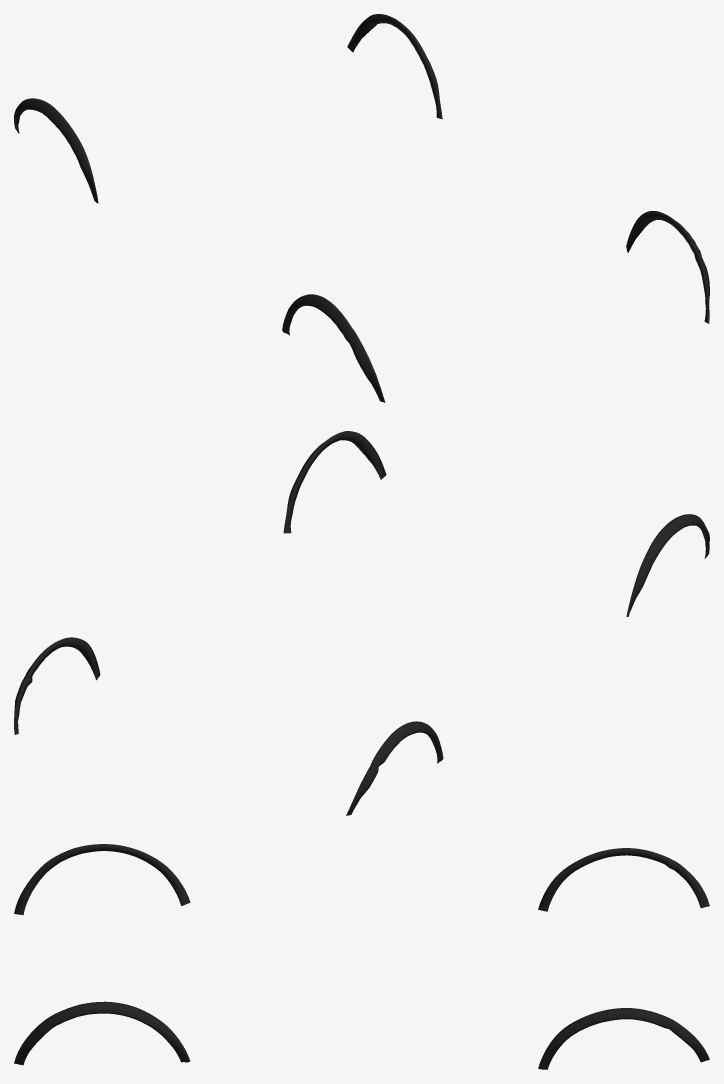
Rendered from DT61_fender_flares_carbon.glb.
3 views of the same model, one above another, from view 1: azimuth 30°, elevation 25°; view 2: azimuth 150°, elevation 25°; view 3: azimuth 270°, elevation 25° (orthographic). The views are drawn at different scales.
Parts seen in each view (by area): view 1: MOD_NC_DT61_front_R, MOD_NC_DT61_rear_R, MOD_NC_DT61_rear_L, MOD_NC_DT61_front_L; view 2: MOD_NC_DT61_rear_R, MOD_NC_DT61_front_R, MOD_NC_DT61_front_L, MOD_NC_DT61_rear_L; view 3: MOD_NC_DT61_front_L, MOD_NC_DT61_rear_L, MOD_NC_DT61_front_R, MOD_NC_DT61_rear_R.
Part boxes in pixels (x1,y1,x2,y2): MOD_NC_DT61_front_R: [282, 294, 385, 402]; MOD_NC_DT61_rear_R: [14, 98, 98, 203]; MOD_NC_DT61_rear_L: [347, 14, 442, 119]; MOD_NC_DT61_front_L: [626, 211, 709, 323]; MOD_NC_DT61_rear_R: [346, 721, 443, 815]; MOD_NC_DT61_front_R: [626, 514, 709, 616]; MOD_NC_DT61_front_L: [283, 431, 386, 533]; MOD_NC_DT61_rear_L: [14, 637, 100, 734]; MOD_NC_DT61_front_L: [14, 1001, 190, 1065]; MOD_NC_DT61_rear_L: [538, 1008, 709, 1069]; MOD_NC_DT61_front_R: [14, 844, 190, 915]; MOD_NC_DT61_rear_R: [538, 848, 709, 911].
Bounding box in the file's own units: 1.75 × 0.3332 × 3.1.
1 material, 1 textured.
